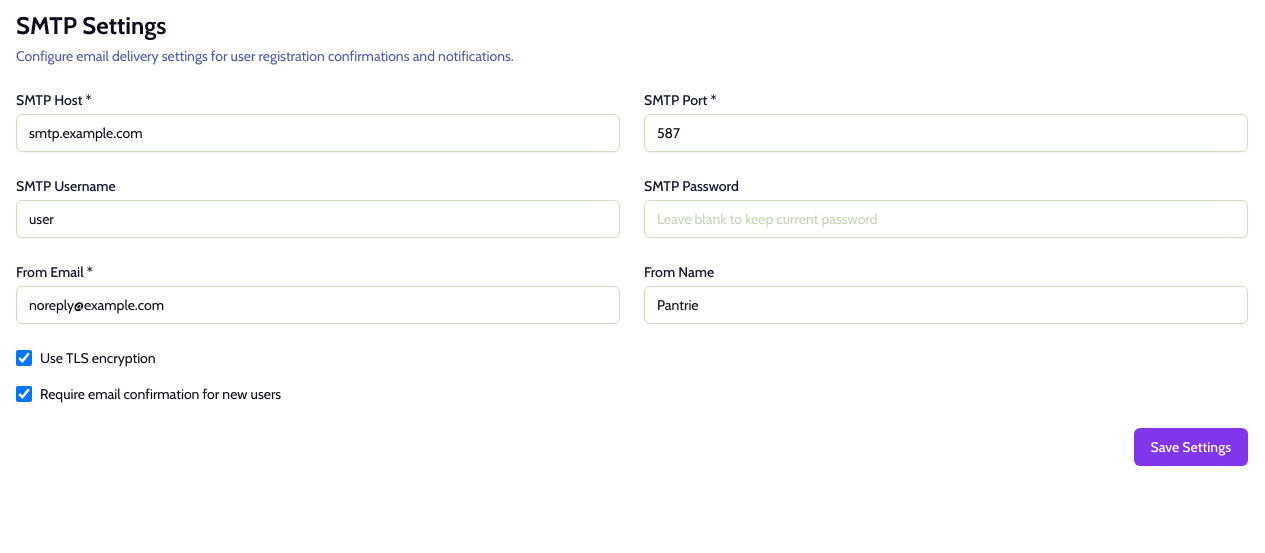
SiteSettings (SMTP) › saves settings and reloads
Replace the text in the field labelled "SMTP Host *" with "smtp.new" at (318, 133), box [16, 114, 620, 152]
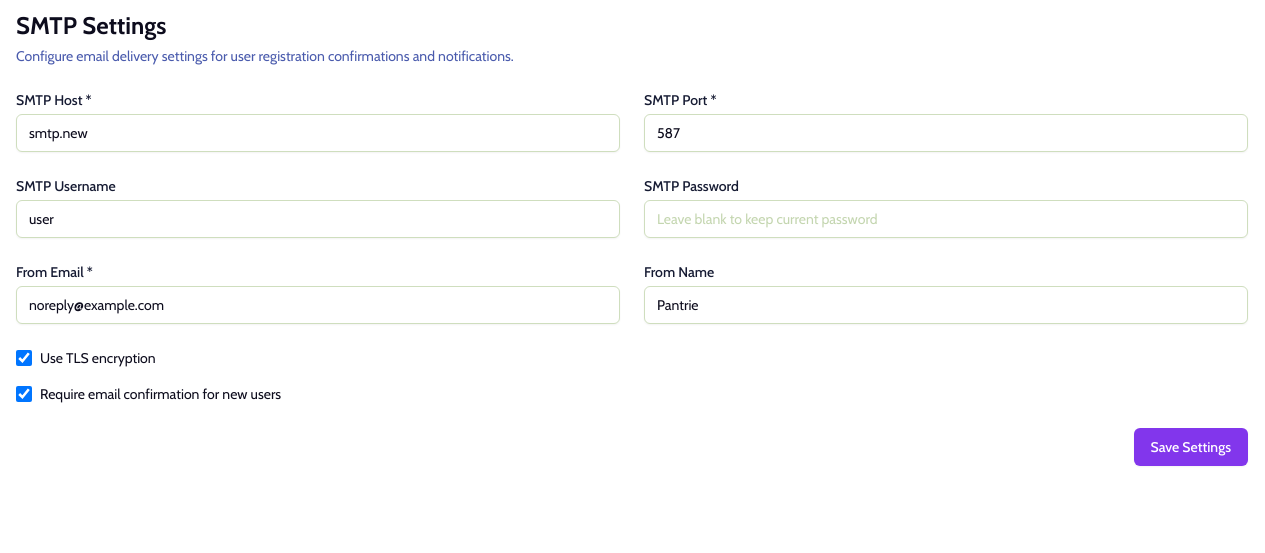
Click the checkbox labelled "Use TLS encryption" at (24, 358), box [16, 350, 32, 366]
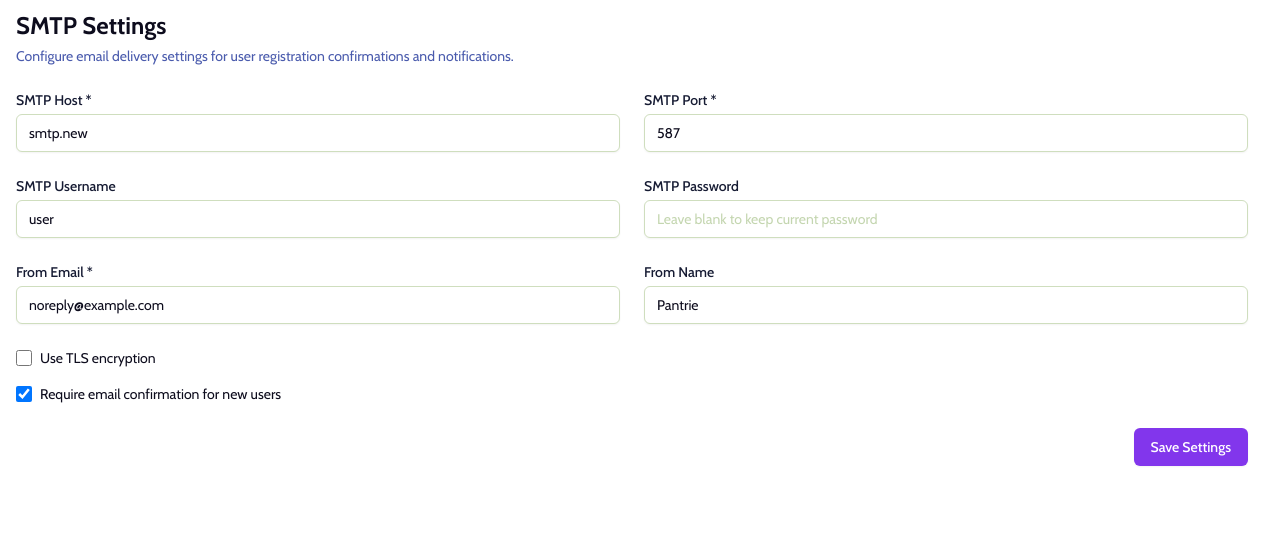
Click the checkbox labelled "Require email confirmation for new users" at (24, 394), box [16, 386, 32, 402]
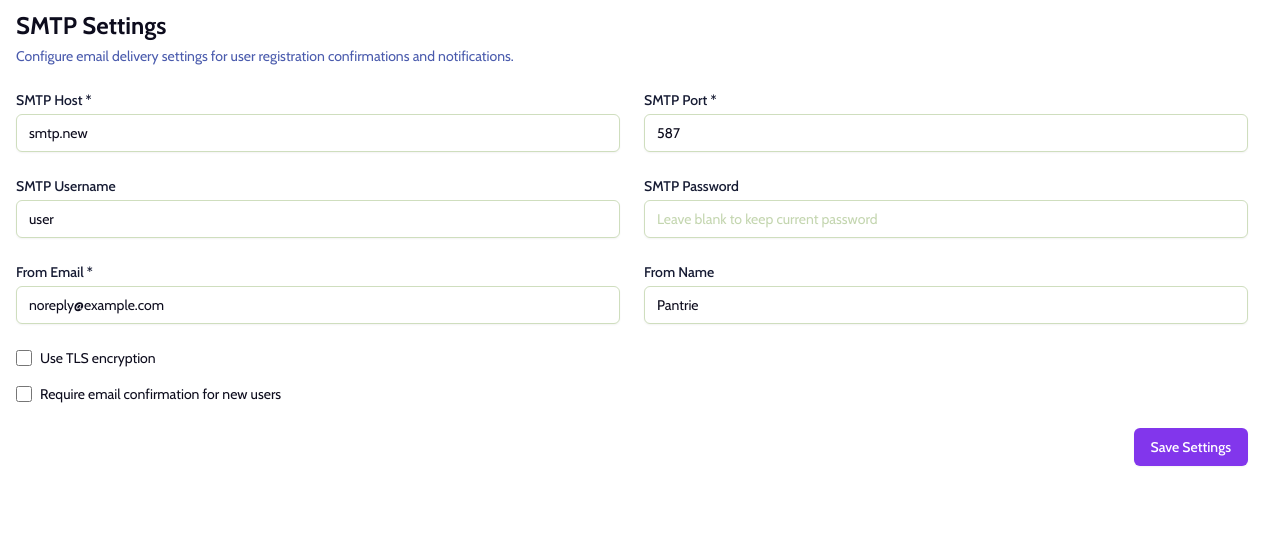
Click the button "Save Settings" at (1191, 447), box [1134, 428, 1248, 466]
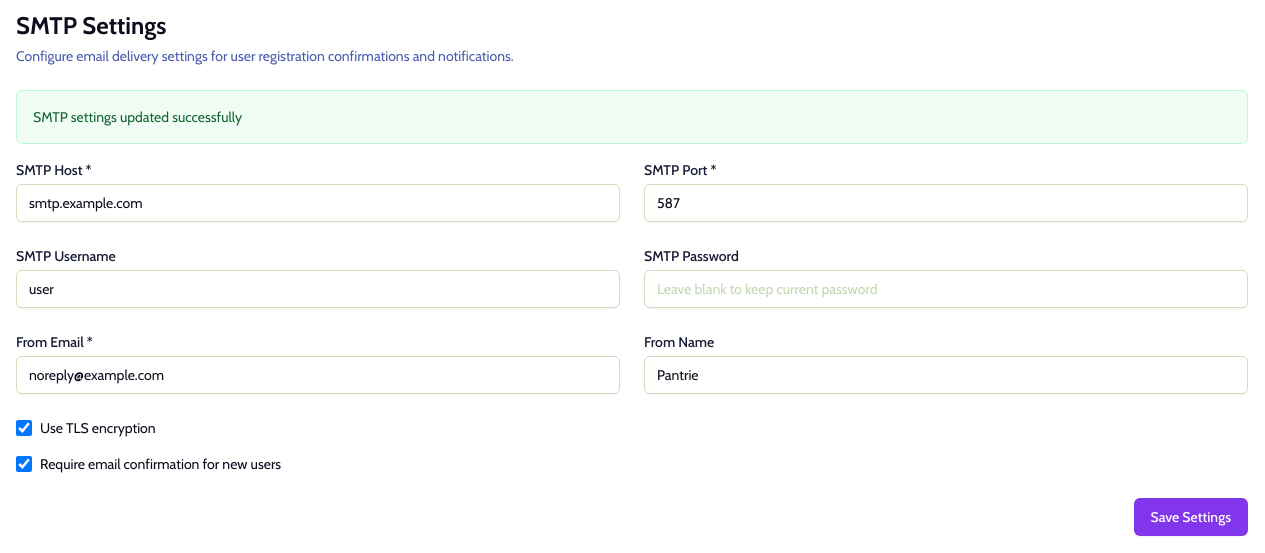
Check: the text "SMTP settings updated successfully" is shown, box [33, 108, 242, 126]
